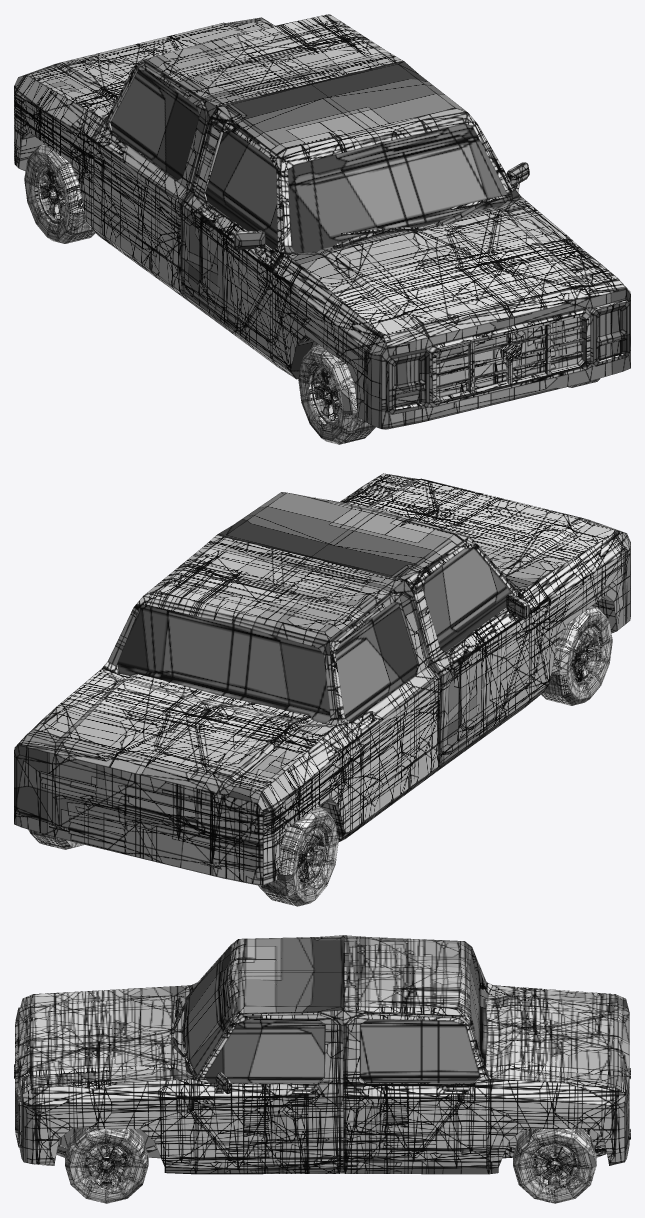
File: sedan.fbx
The picture shows the model from 3 angles, top to bottom: view 1: azimuth 30°, elevation 25°; view 2: azimuth 150°, elevation 25°; view 3: azimuth 270°, elevation 25°; orthographic projection. The views are drawn at different scales.
Parts seen in each view (by area): view 1: sedan, SM_Veh_Pickup_Glass, extras, SM_Veh_Pickup_Wheel_fr, SM_Veh_Pickup_Wheel_rr; view 2: sedan, SM_Veh_Pickup_Glass, SM_Veh_Pickup_Wheel_rr, SM_Veh_Pickup_Wheel_fr, extras; view 3: sedan, SM_Veh_Pickup_Glass, SM_Veh_Pickup_Wheel_fl, SM_Veh_Pickup_Wheel_rl, extras.
Boxes of the visible parts, x1,y1,x2,y2 form: sedan: [14, 14, 630, 429]; SM_Veh_Pickup_Glass: [110, 70, 508, 252]; extras: [234, 162, 583, 393]; SM_Veh_Pickup_Wheel_fr: [298, 344, 375, 444]; SM_Veh_Pickup_Wheel_rr: [24, 144, 95, 243]; sedan: [14, 473, 630, 885]; SM_Veh_Pickup_Glass: [117, 548, 511, 723]; SM_Veh_Pickup_Wheel_rr: [258, 806, 338, 906]; SM_Veh_Pickup_Wheel_fr: [541, 606, 612, 705]; extras: [49, 593, 529, 869]; sedan: [15, 935, 629, 1174]; SM_Veh_Pickup_Glass: [182, 947, 488, 1083]; SM_Veh_Pickup_Wheel_fl: [65, 1128, 148, 1203]; SM_Veh_Pickup_Wheel_rl: [513, 1128, 596, 1203]; extras: [14, 998, 630, 1163].
Size of the model in its own units: 234 by 167 by 520.
